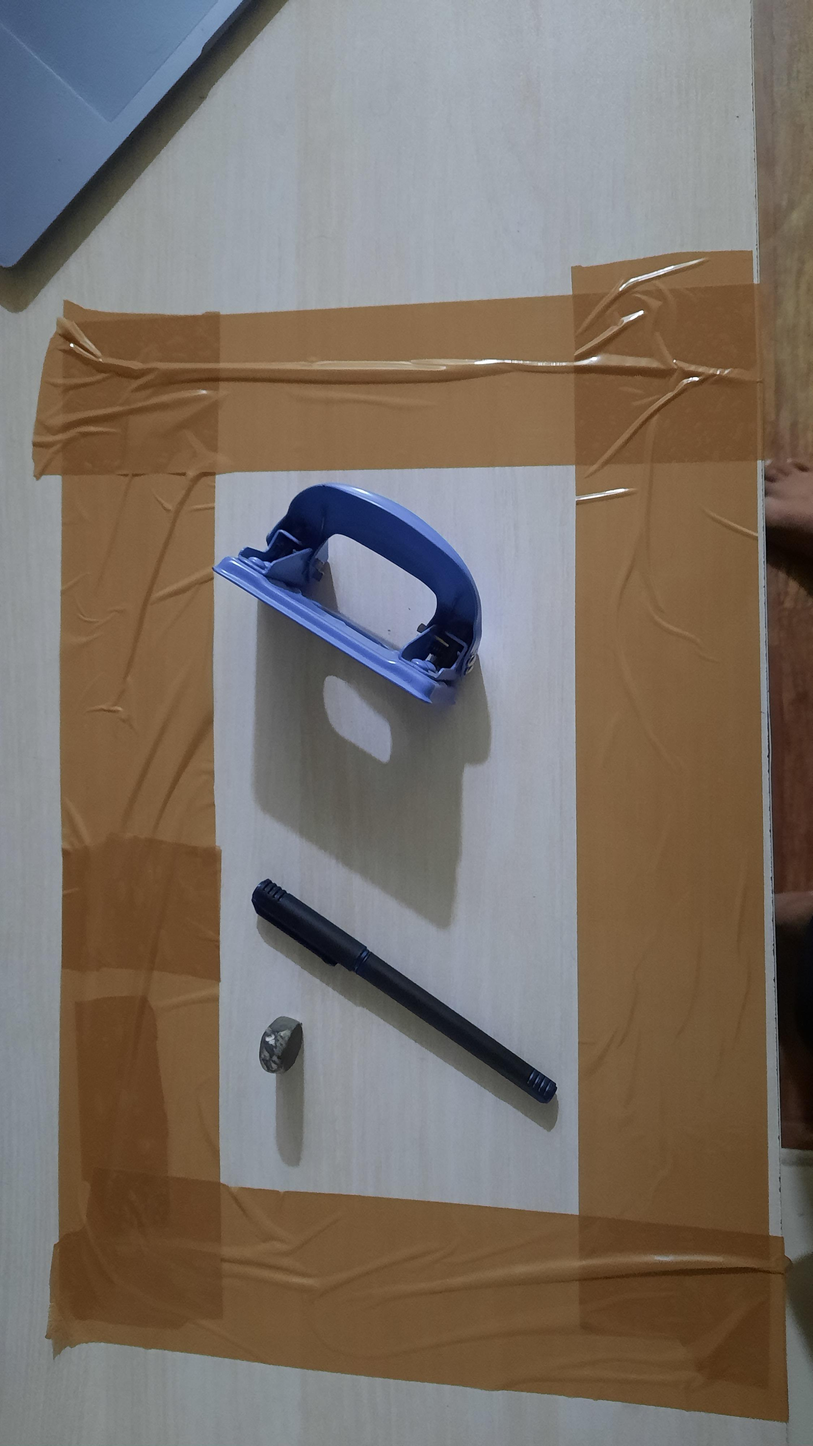Eraser: (259, 1016, 303, 1074)
Pen: (250, 878, 558, 1104)
Punch: (212, 483, 483, 705)
